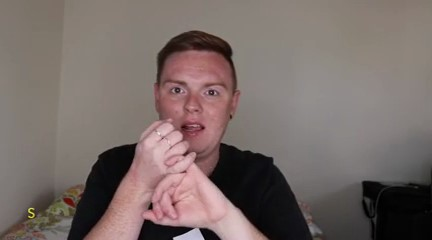S: (126, 119, 218, 240)
